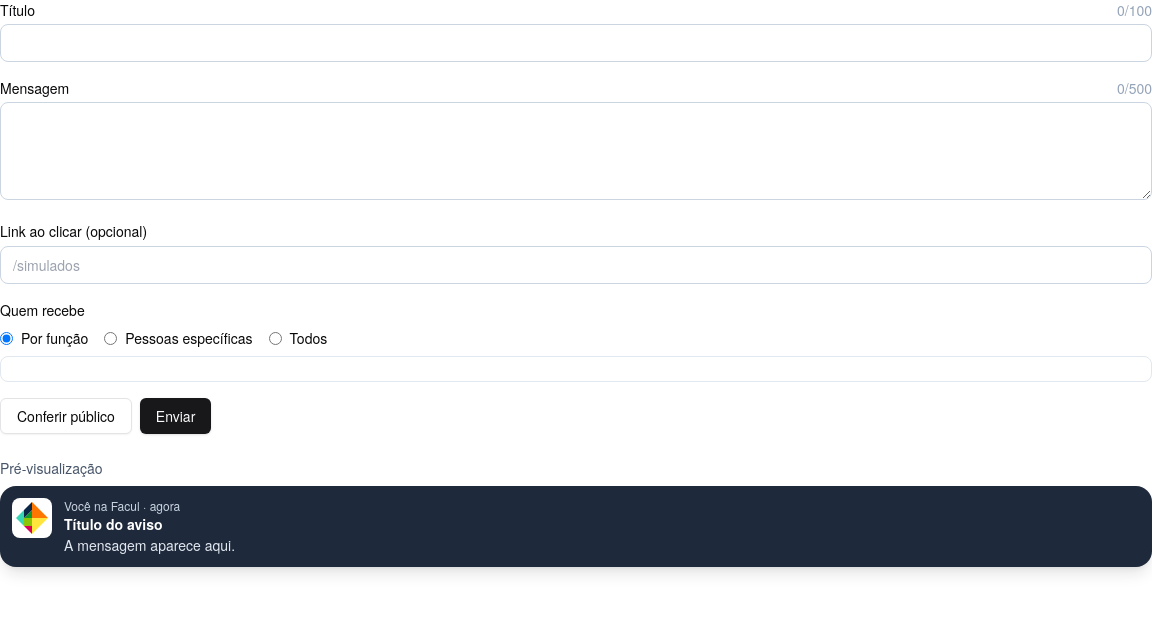
Test: NovaNotificacao › público vazio: a mensagem do 422 aparece e nada fica 'enviado'
In the field labelled "Título 0/100": (576, 43) x1=0 y1=24 x2=1151 y2=62, type "Simulado liberado"
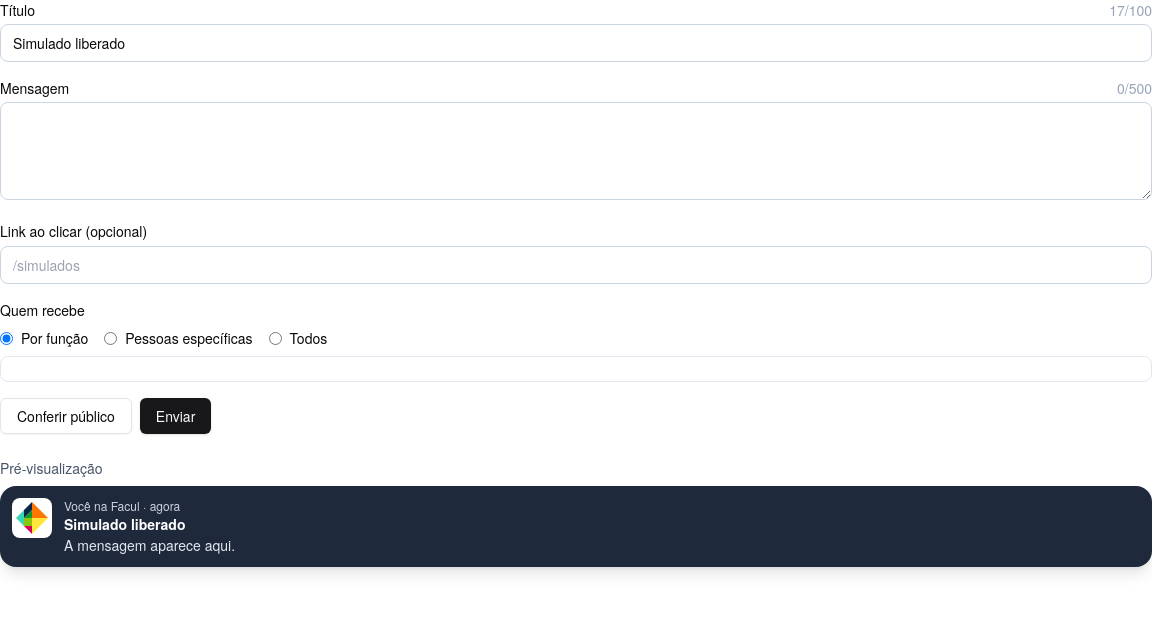
In the text box labelled "Mensagem 0/500": (576, 151) x1=0 y1=102 x2=1151 y2=200, type "O simulado de sábado já está no ar."
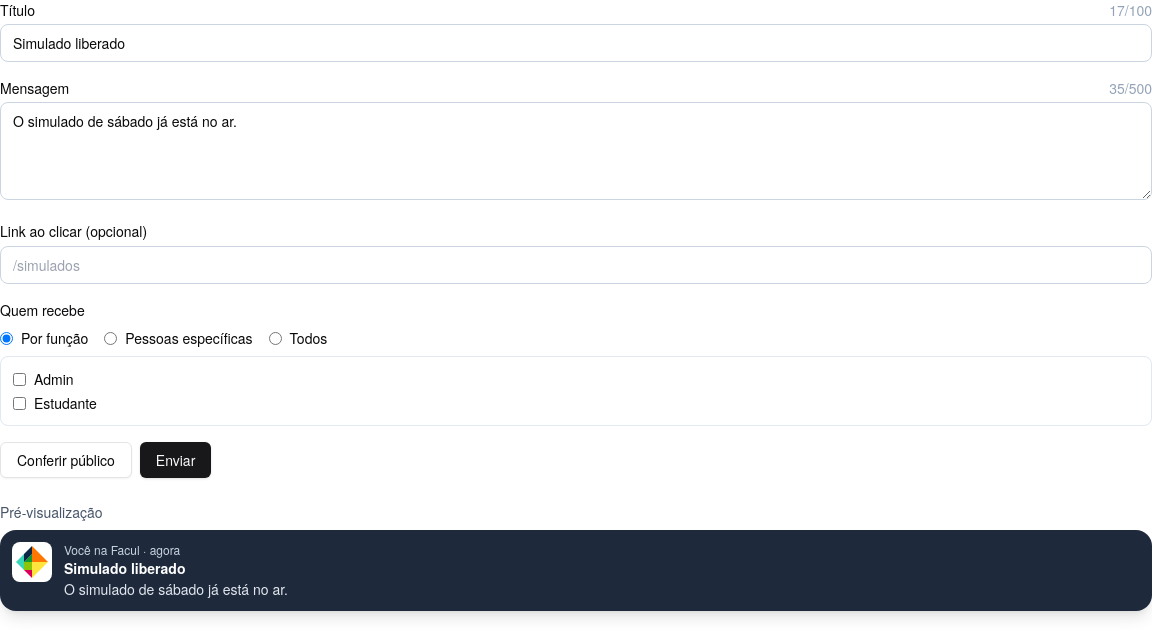
Click the checkbox labelled "Admin": (20, 379) x1=13 y1=372 x2=26 y2=386
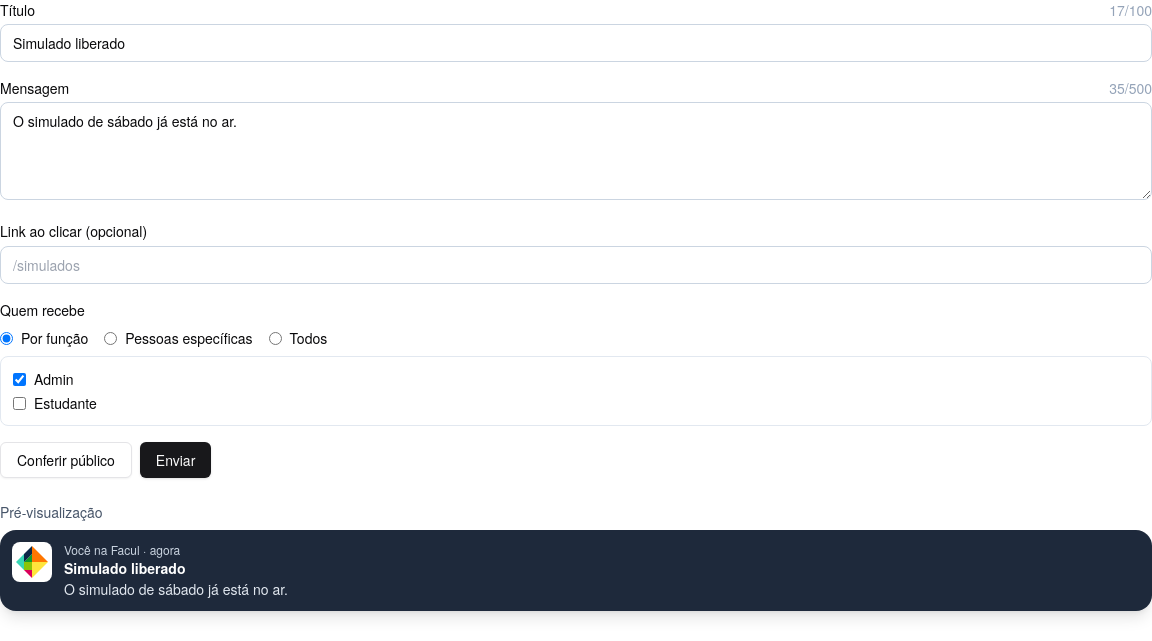
Click the button "Enviar": (176, 460) x1=140 y1=442 x2=211 y2=478
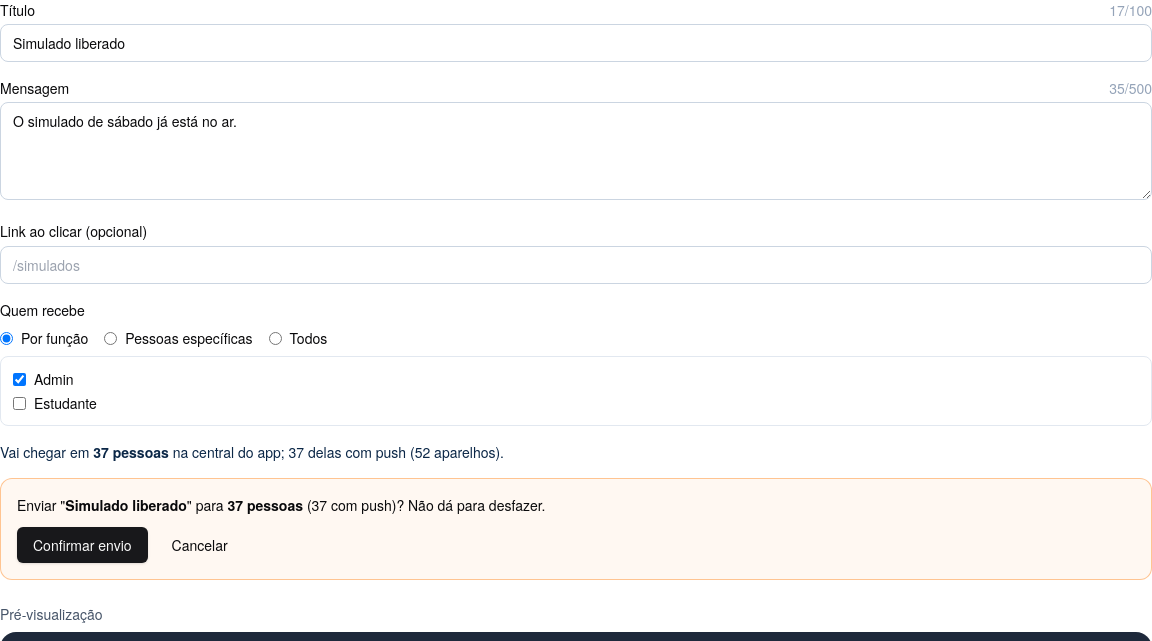
Now the element named "Confirmar envio" is shown, box x1=0 y1=478 x2=1151 y2=580
Click the button "Confirmar envio": (82, 545) x1=17 y1=527 x2=148 y2=563
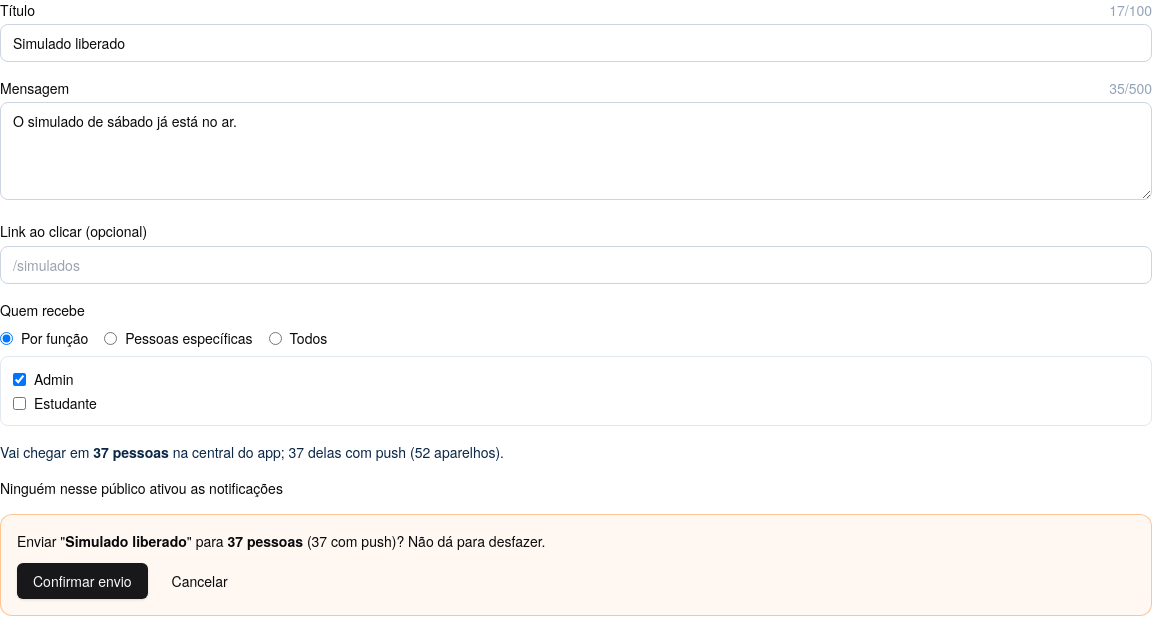
Now the message "Ninguém nesse público ativou as notificações" is shown, box x1=0 y1=478 x2=283 y2=498
